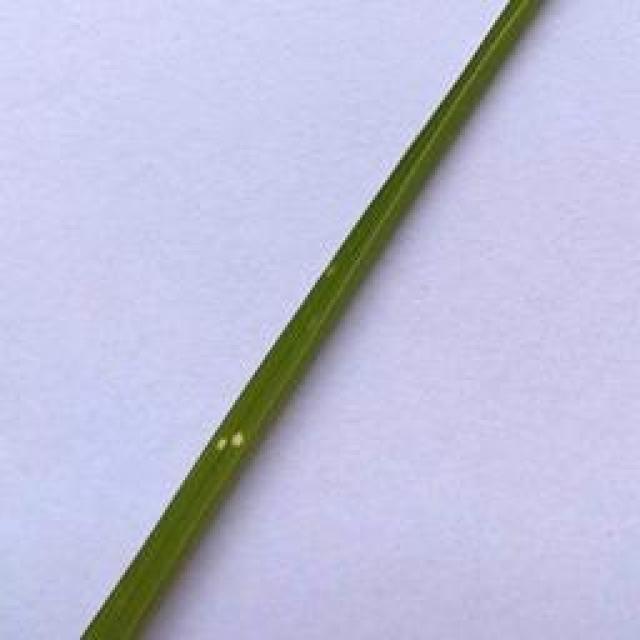Unhealthy: (229, 428, 246, 449), (214, 434, 229, 454)
